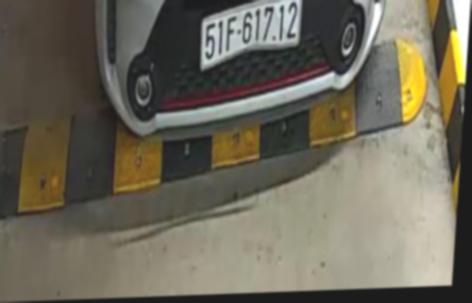License_Plate: (192, 0, 305, 65)
